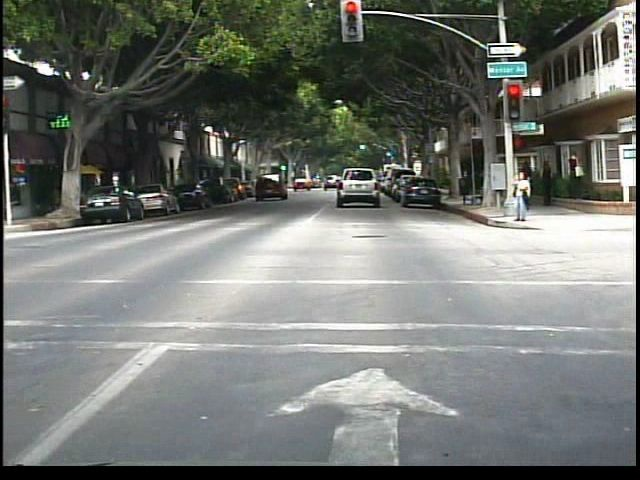person: (507, 168, 533, 225), (564, 149, 588, 202), (537, 158, 559, 214), (517, 157, 536, 207)
